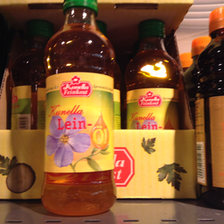oil: (43, 1, 117, 217), (124, 17, 181, 129)
